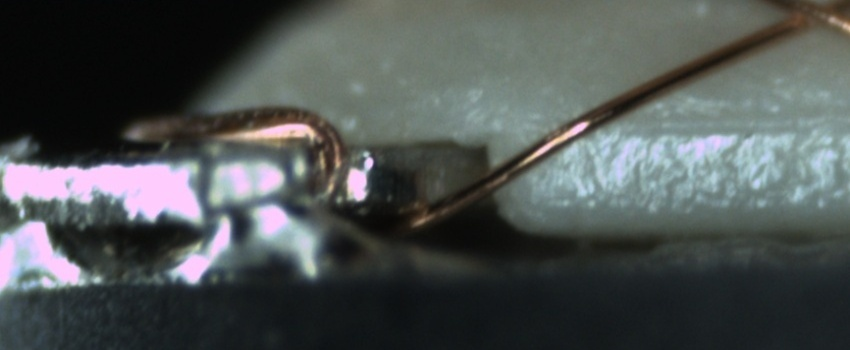CL: (762, 0, 847, 42)
DL: (528, 92, 849, 161)
TE: (140, 101, 350, 197)
